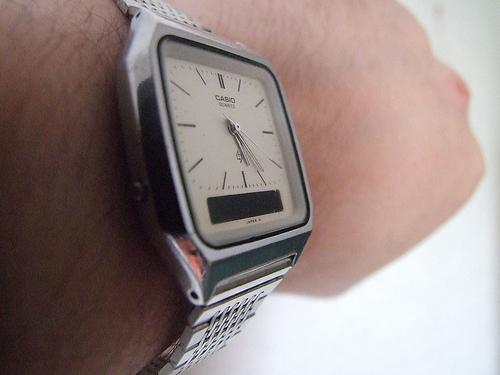watch: (124, 0, 321, 313)
